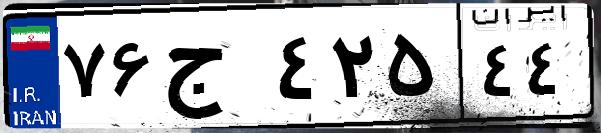2: (330, 28, 385, 110)
4: (270, 28, 330, 110), (475, 38, 525, 113), (525, 38, 570, 115)
5: (385, 28, 445, 110)
6: (110, 28, 158, 98)
7: (57, 26, 110, 100)
ج: (158, 20, 270, 120)
